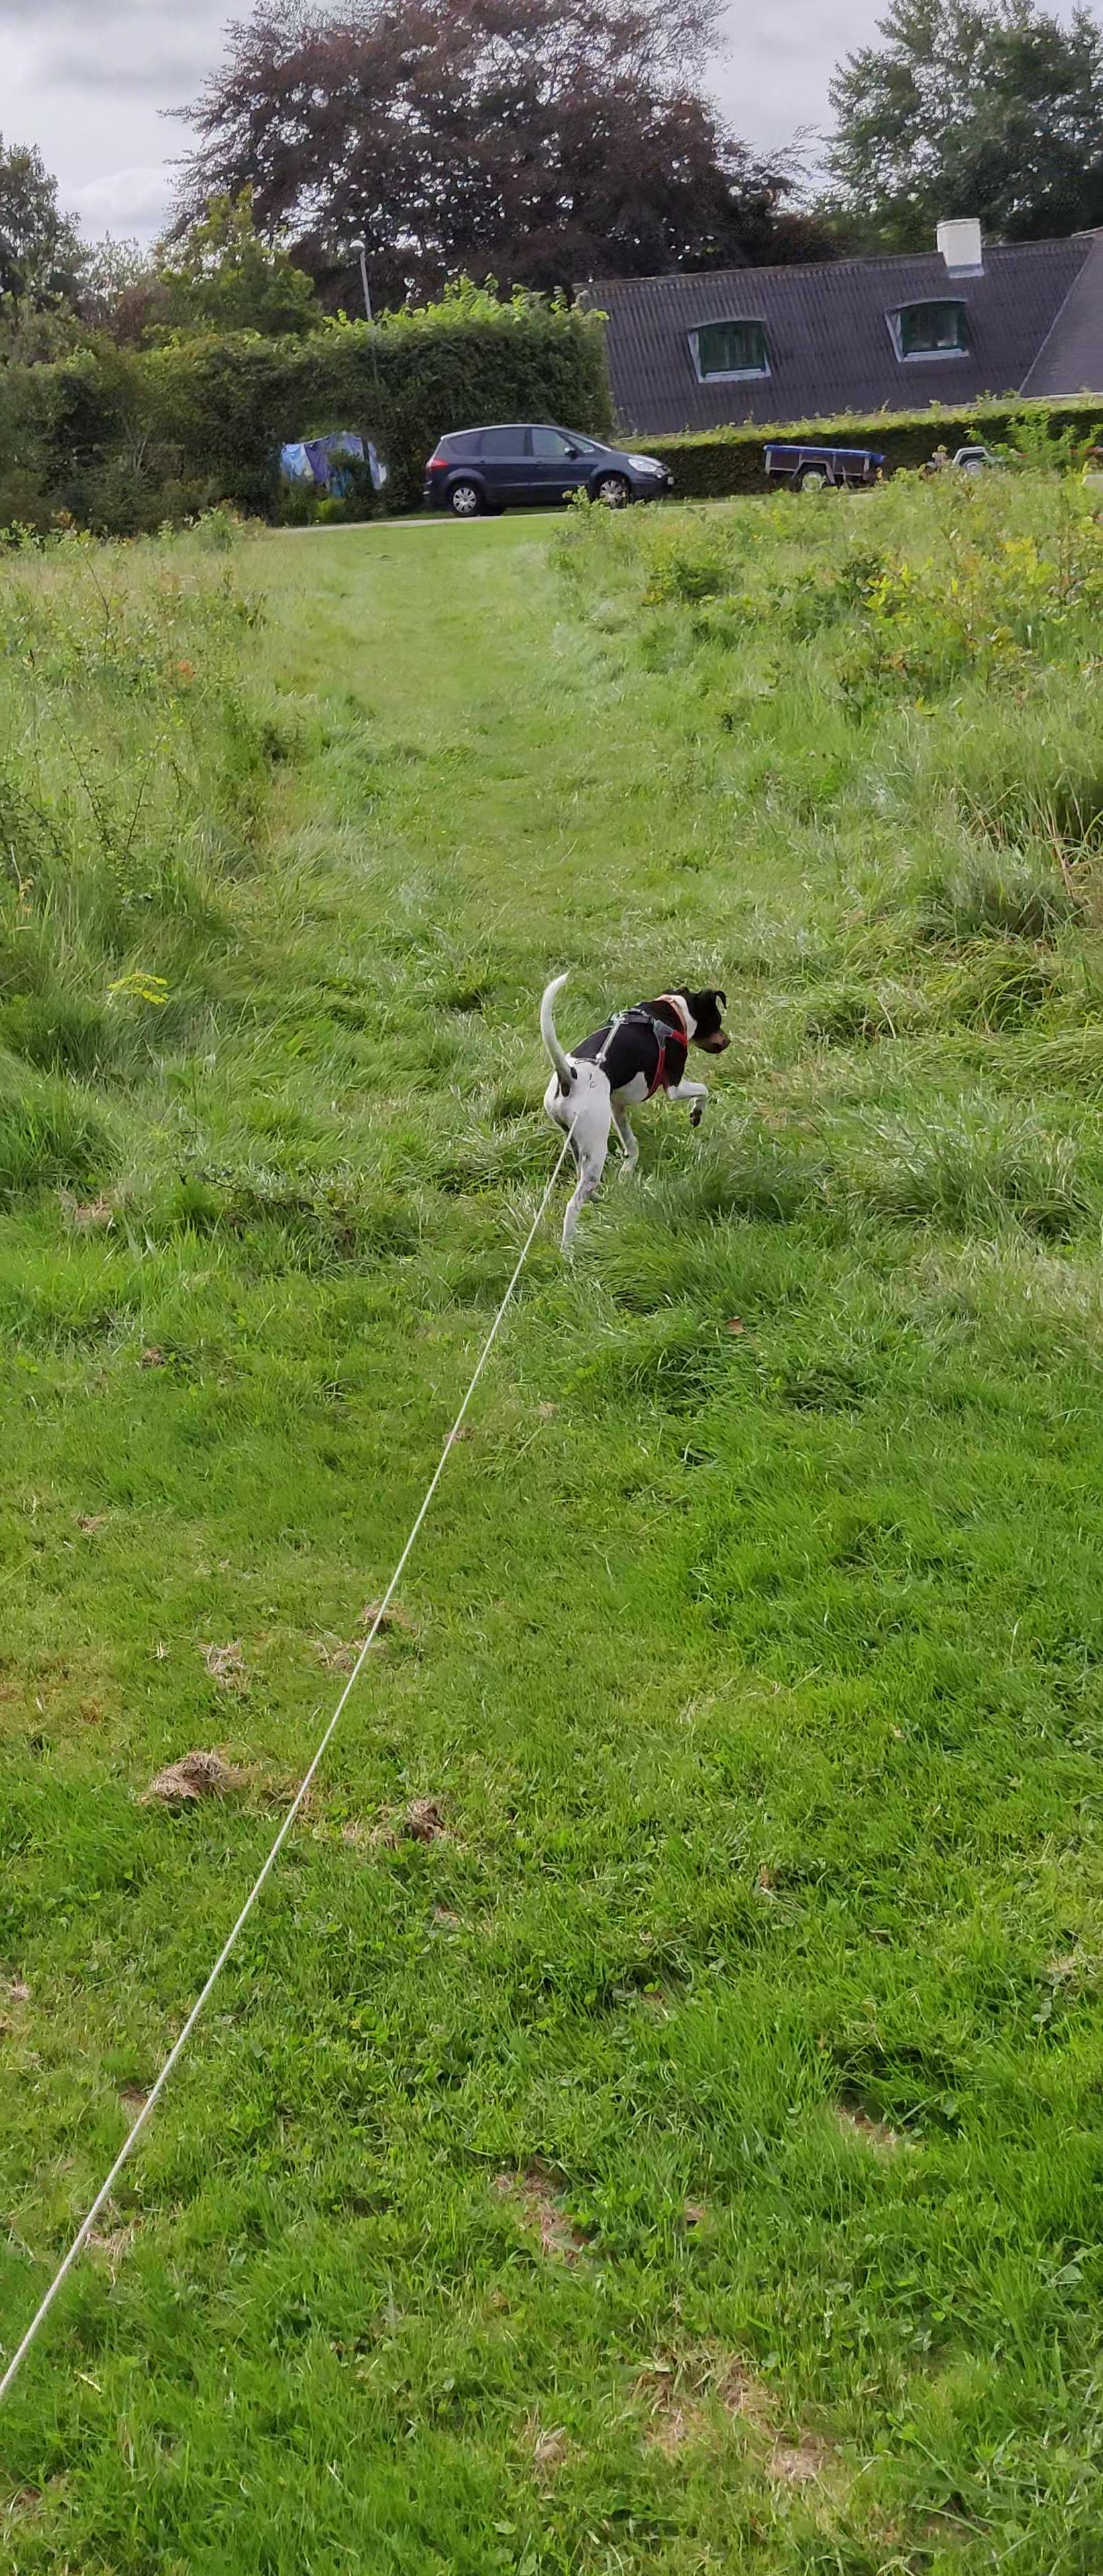Dog: (503, 933, 756, 1260)
